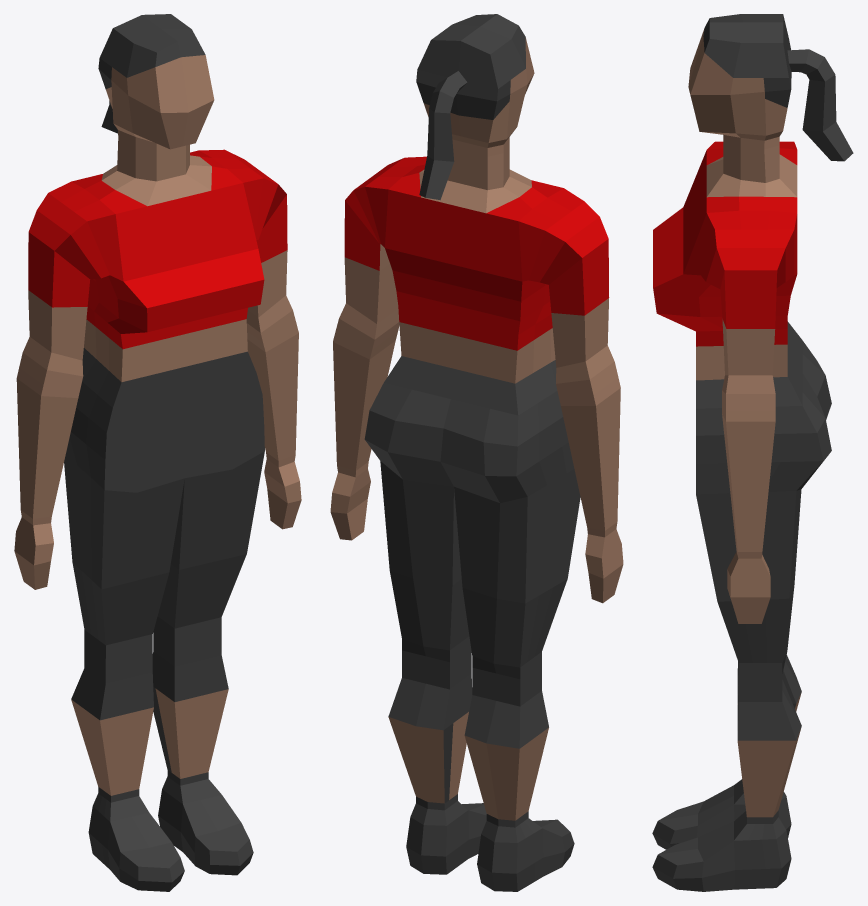
File: Girl2.fbx
3 views of the same model, side by side, from view 1: azimuth 30°, elevation 25°; view 2: azimuth 150°, elevation 25°; view 3: azimuth 270°, elevation 25° (orthographic). The views are drawn at different scales.
Parts seen in each view (by area): view 1: Girl.001; view 2: Girl.001; view 3: Girl.001.
Boxes of the visible parts, left/top/right/bottom form: Girl.001: left=14, top=14, right=301, bottom=891; Girl.001: left=330, top=14, right=623, bottom=891; Girl.001: left=652, top=14, right=853, bottom=891.
Size of the model in its own units: 57.85 by 170 by 36.95.
